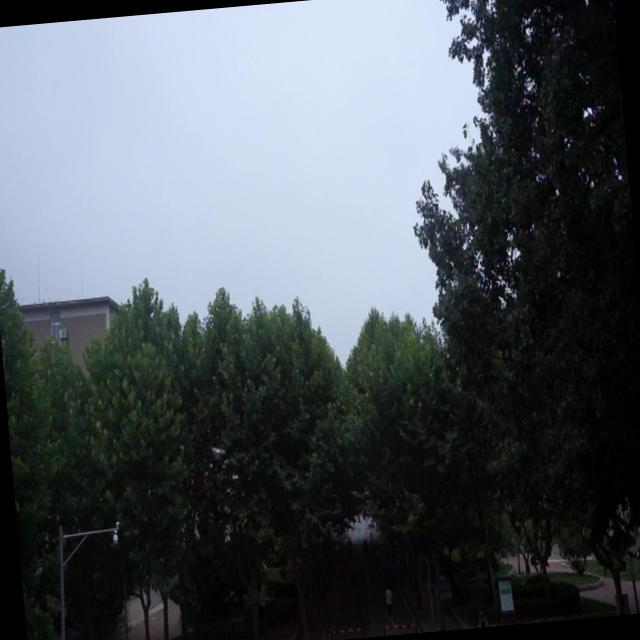drone: (206, 442, 228, 462)
